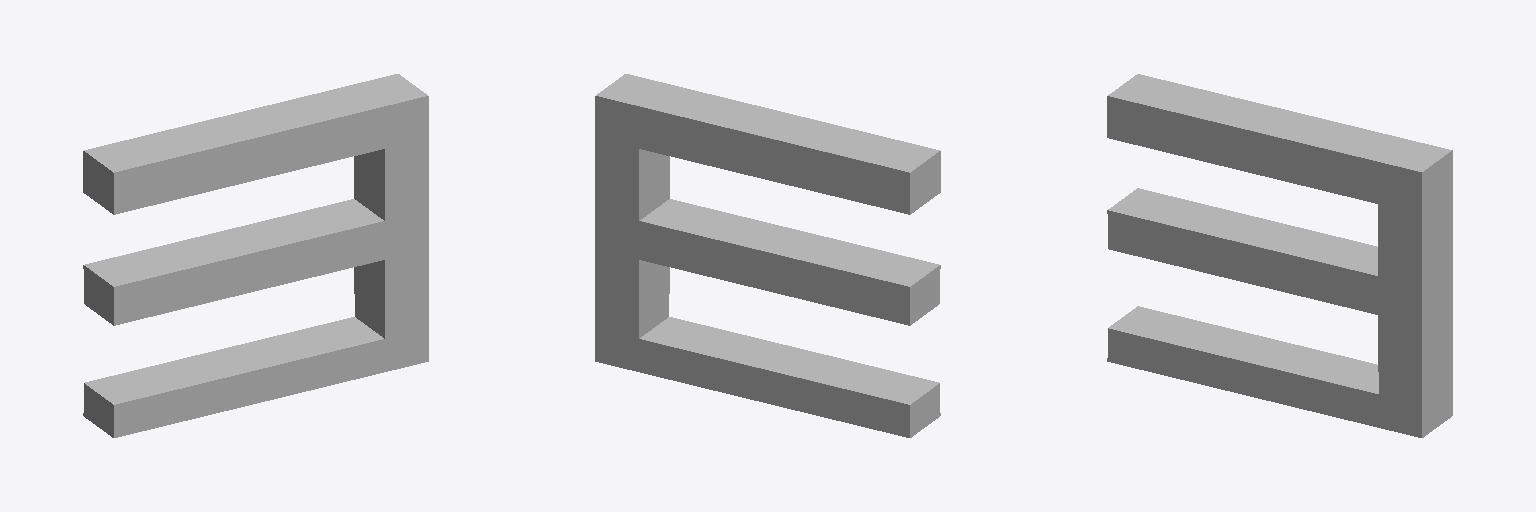
The model's file is three.obj.
3 views of the same model, side by side, from view 1: azimuth 30°, elevation 25°; view 2: azimuth 150°, elevation 25°; view 3: azimuth 330°, elevation 25° (orthographic).
Visible parts, largest first — view 1: Cube.003_Cube.004; view 2: Cube.003_Cube.004; view 3: Cube.003_Cube.004.
Part boxes in pixels (x1,y1,x2,y2): Cube.003_Cube.004: (83, 74, 428, 437); Cube.003_Cube.004: (595, 74, 940, 437); Cube.003_Cube.004: (1107, 74, 1452, 437).
Size of the model in its own units: 0.5993 by 0.4841 by 0.1.